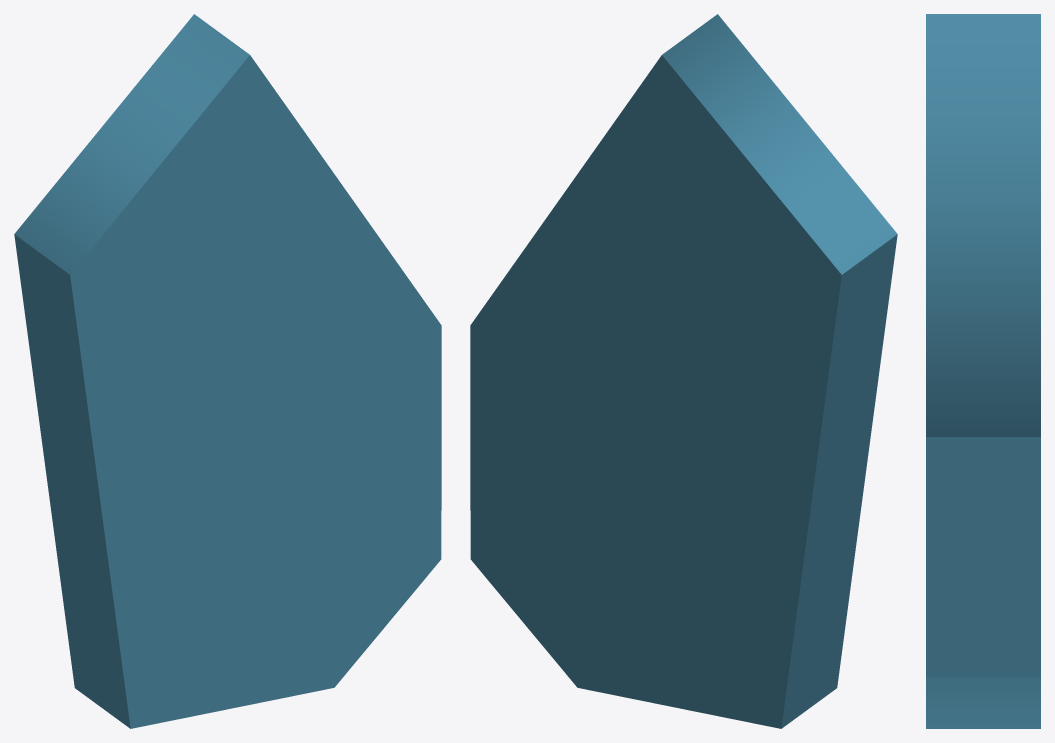
Rendered from NexusA_Trigger_43.fbx.
3 views of the same model, side by side, from view 1: azimuth 30°, elevation 25°; view 2: azimuth 150°, elevation 25°; view 3: azimuth 270°, elevation 25° (orthographic). The views are drawn at different scales.
Parts seen in each view (by area): view 1: pCube25; view 2: pCube25; view 3: pCube25.
Part boxes in pixels (x1=…): pCube25: x1=14, y1=14, x2=441, y2=728; pCube25: x1=470, y1=14, x2=897, y2=728; pCube25: x1=926, y1=14, x2=1040, y2=728.
Bounding box in the file's own units: 33.23 × 55.85 × 8.65.
